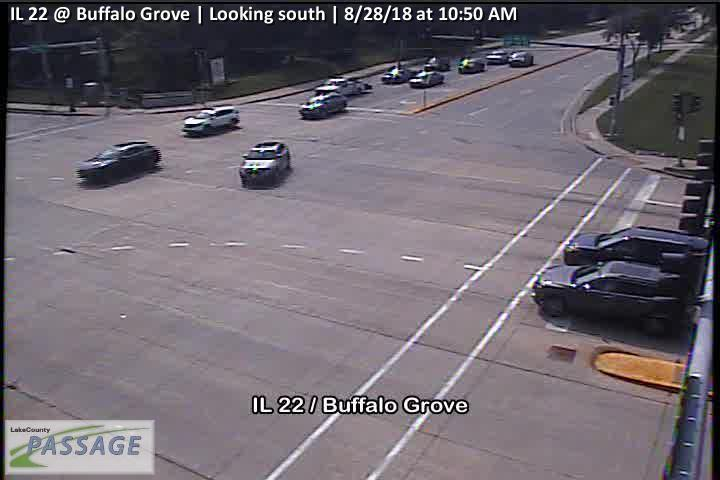SUV: (529, 258, 684, 329), (562, 225, 720, 273)
Sedan: (77, 139, 159, 184), (238, 140, 289, 184), (181, 104, 241, 137), (297, 90, 346, 120), (408, 70, 444, 87), (380, 65, 410, 85), (454, 57, 485, 75), (505, 48, 534, 67), (425, 52, 449, 74), (485, 47, 508, 62)
Truck: (313, 72, 364, 96)
